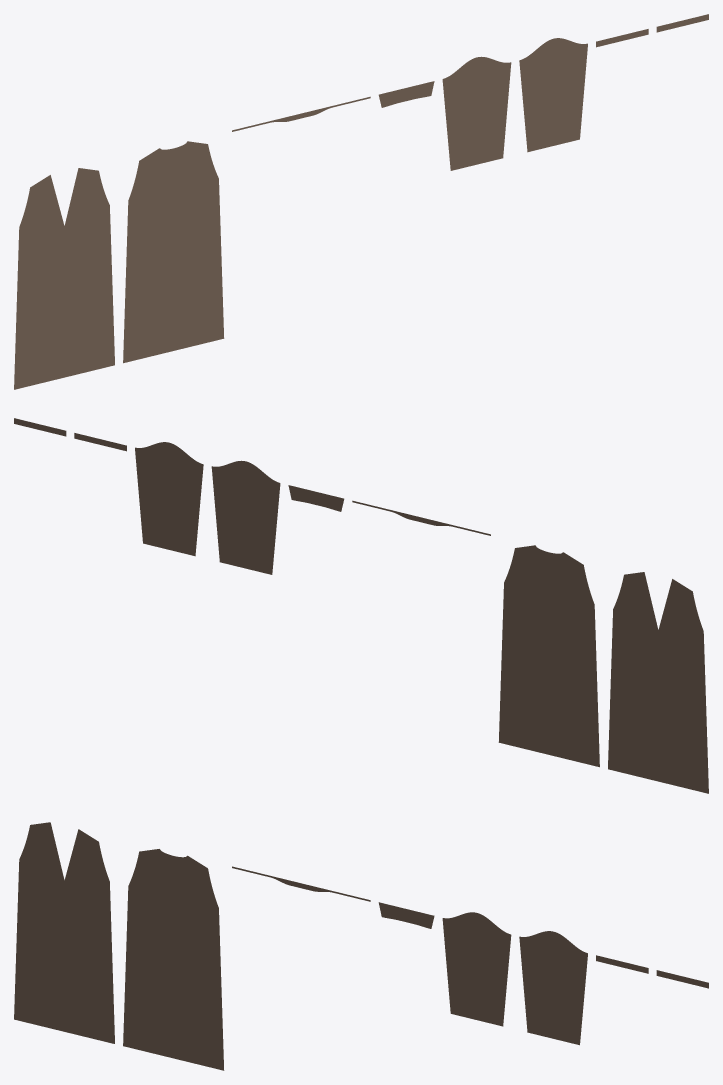
Rendered from abrigo-lana-cruzado-talla-M.glb.
3 views of the same model, one above another, from view 1: azimuth 30°, elevation 25°; view 2: azimuth 150°, elevation 25°; view 3: azimuth 330°, elevation 25° (orthographic).
Parts seen in each view (by area): view 1: patron-espalda, patron-delantero, patron-manga-izq, patron-manga-der, patron-cuello-hoja; view 2: patron-espalda, patron-delantero, patron-manga-izq, patron-manga-der, patron-cuello-hoja; view 3: patron-espalda, patron-delantero, patron-manga-izq, patron-manga-der, patron-cuello-hoja, patron-cuello-pie.
Boxes of the visible parts, left/top/right/bottom form: patron-espalda: left=123, top=141, right=224, bottom=363; patron-delantero: left=14, top=168, right=114, bottom=389; patron-manga-izq: left=442, top=56, right=511, bottom=170; patron-manga-der: left=519, top=38, right=587, bottom=152; patron-cuello-hoja: left=378, top=81, right=434, bottom=107; patron-espalda: left=498, top=545, right=599, bottom=767; patron-delantero: left=608, top=572, right=708, bottom=793; patron-manga-izq: left=211, top=460, right=280, bottom=574; patron-manga-der: left=135, top=442, right=203, bottom=556; patron-cuello-hoja: left=288, top=485, right=344, bottom=511; patron-espalda: left=123, top=849, right=224, bottom=1070; patron-delantero: left=14, top=822, right=114, bottom=1043; patron-manga-izq: left=442, top=912, right=511, bottom=1026; patron-manga-der: left=519, top=931, right=587, bottom=1045; patron-cuello-hoja: left=378, top=902, right=434, bottom=928; patron-cuello-pie: left=232, top=866, right=370, bottom=901.
Size of the model in its own units: 4.37 by 1.32 by 0.
